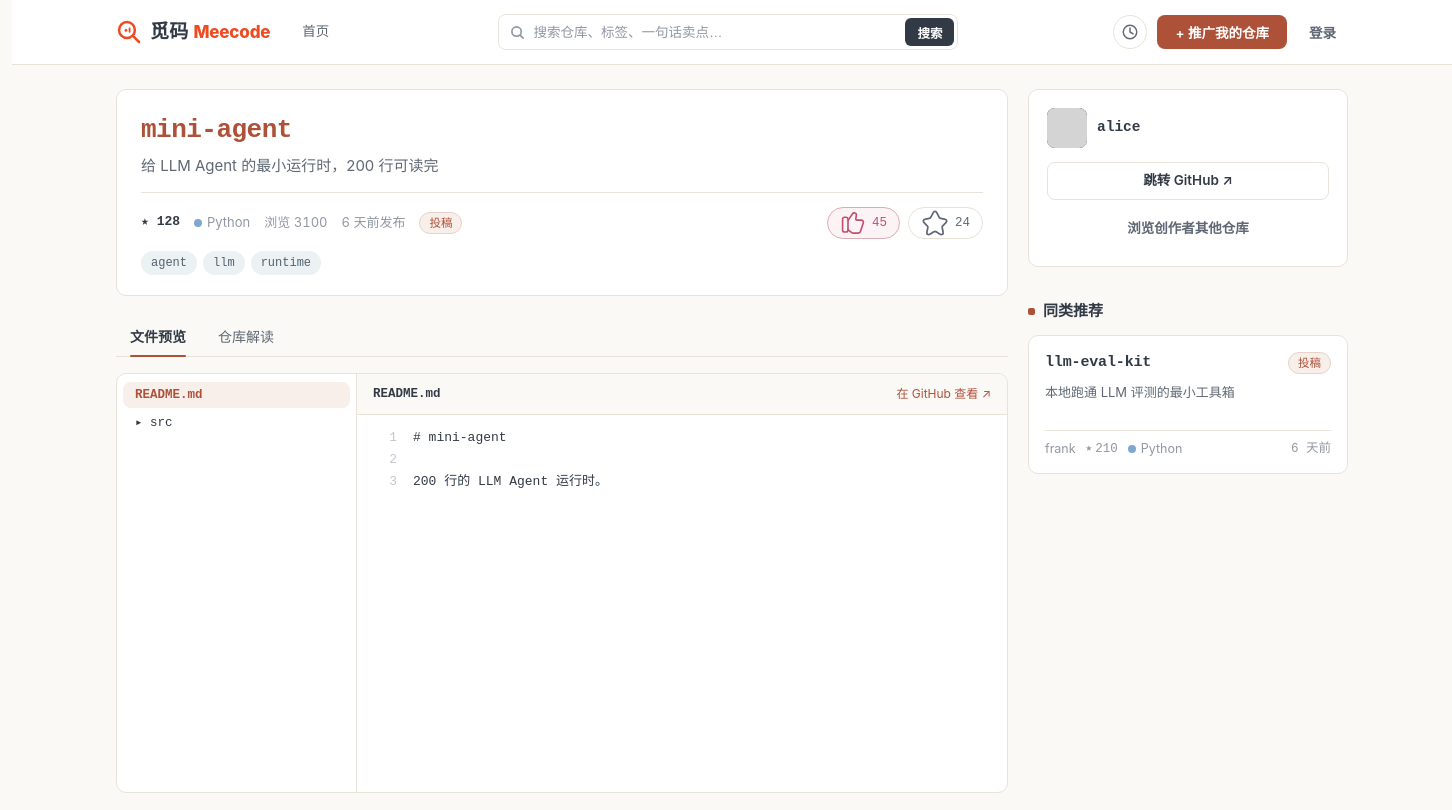
Test: RepoPage › 切换到解读面板，后端不可达时显示错误降级
Click the tab "仓库解读". click: click(246, 336)
box: [204,316,288,356]
(page scrolled)
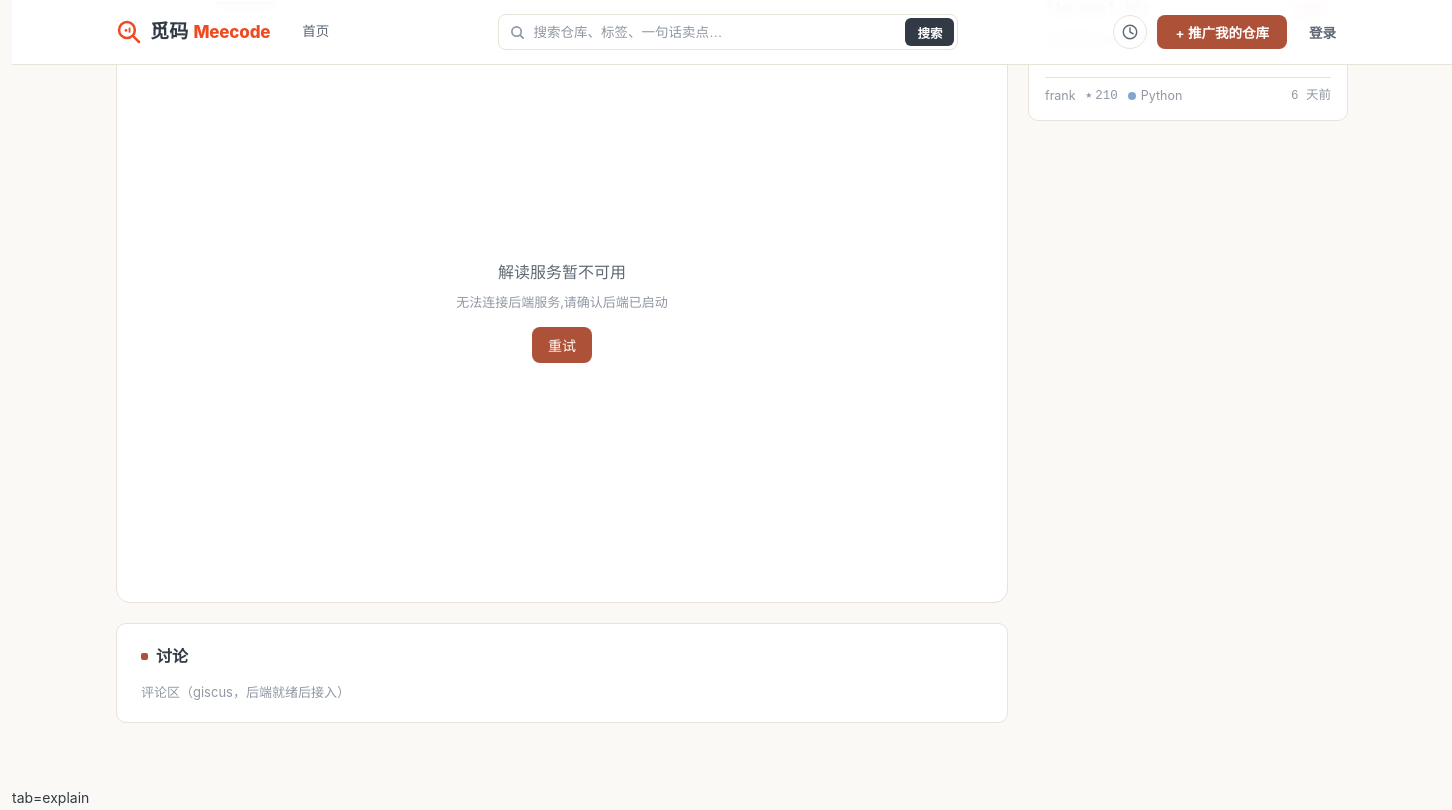
Expected: the text "解读服务暂不可用" is shown, [498,260,626,286]
Expected: the button "重试" is shown, [532,327,592,363]
Expected: the text with test id "params" reads "tab=explain", [12,789,89,806]
